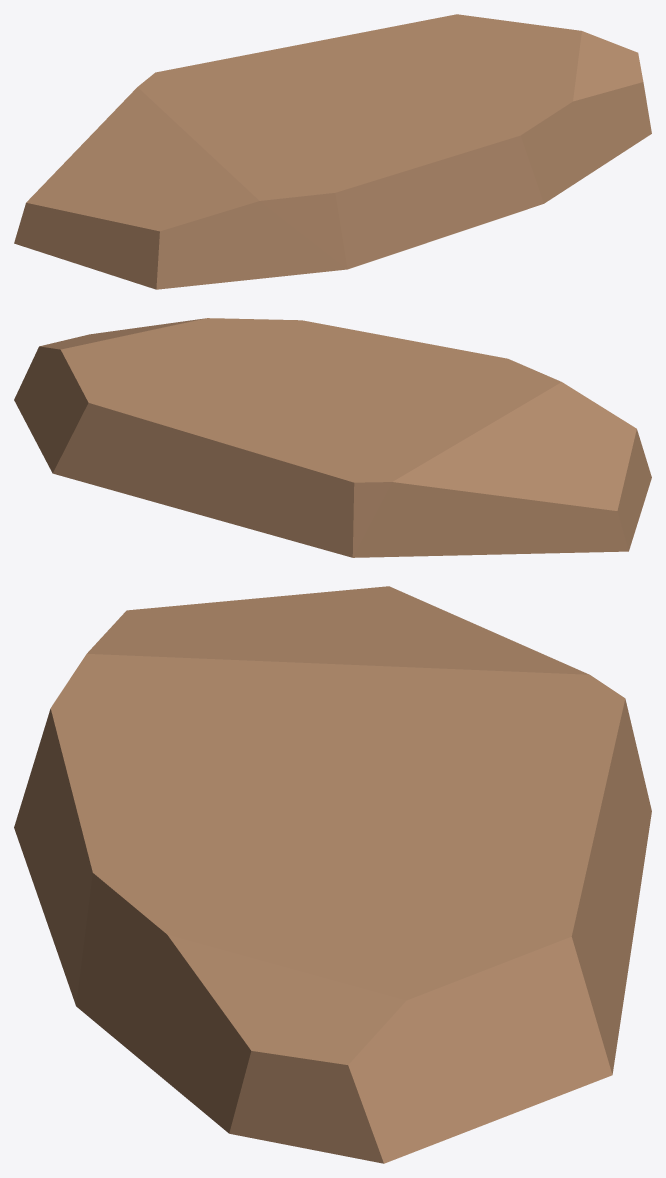
File: Rock_Flat_s_09.fbx
3 views of the same model, one above another, from view 1: azimuth 30°, elevation 25°; view 2: azimuth 150°, elevation 25°; view 3: azimuth 270°, elevation 25° (orthographic). The views are drawn at different scales.
Visible parts, largest first — view 1: Rock_Flat_s_09; view 2: Rock_Flat_s_09; view 3: Rock_Flat_s_09.
Boxes of the visible parts, x1,y1,x2,y2 form: Rock_Flat_s_09: [14, 14, 651, 289]; Rock_Flat_s_09: [14, 318, 651, 557]; Rock_Flat_s_09: [14, 586, 651, 1163].
Size of the model in its own units: 108 by 11.43 by 55.9.
